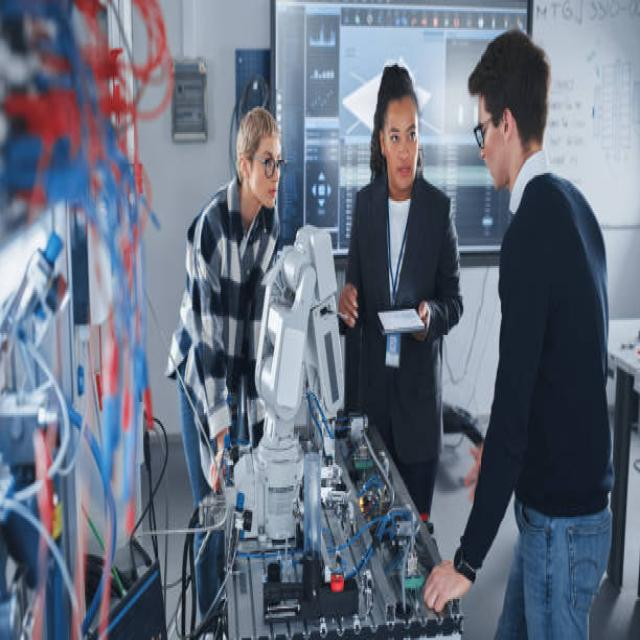Robotic-arm: (235, 222, 349, 578)
